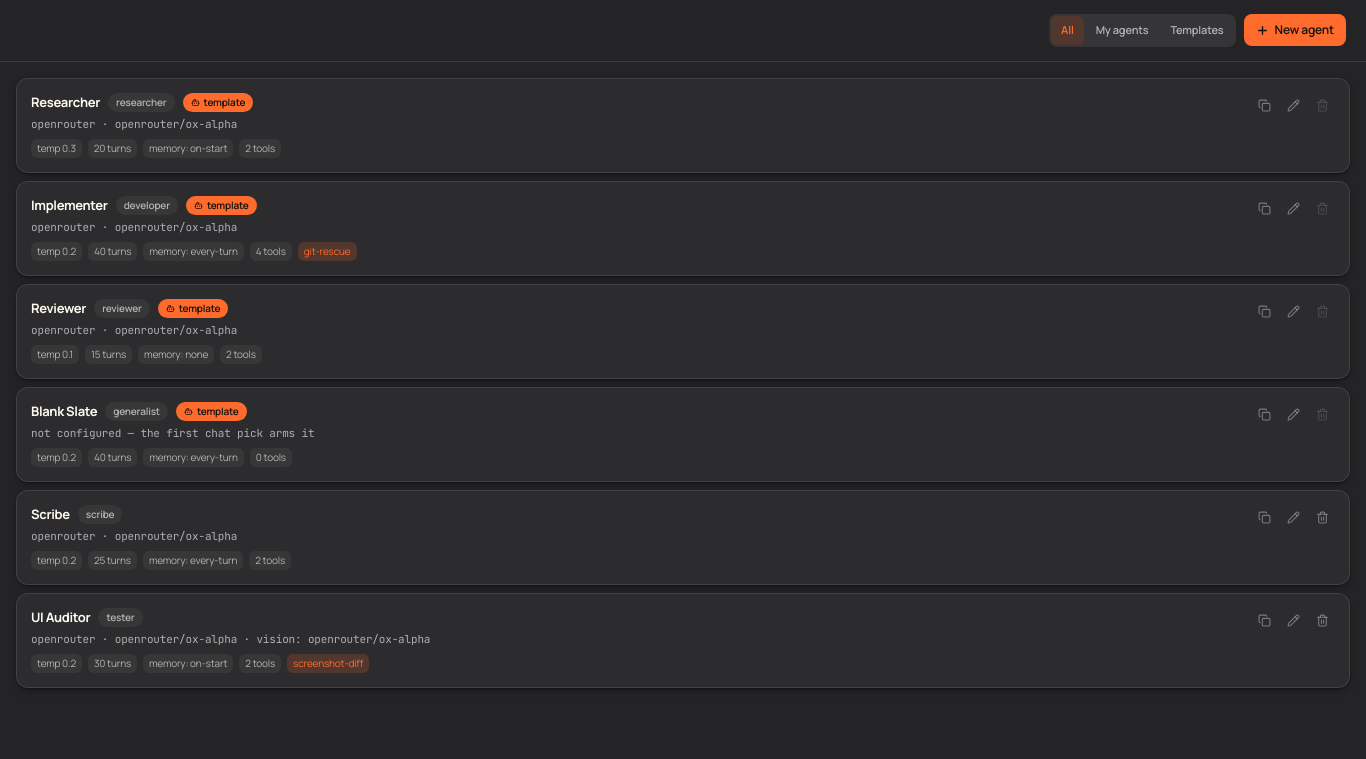
AgentsScreen (fixture backend) › create flow: dialog → fill required fields → agent appears in the list
Expected: the text "Implementer" is shown, [31, 196, 108, 215]
Click the button "New agent". click: (1295, 30)
box: [1244, 14, 1346, 46]
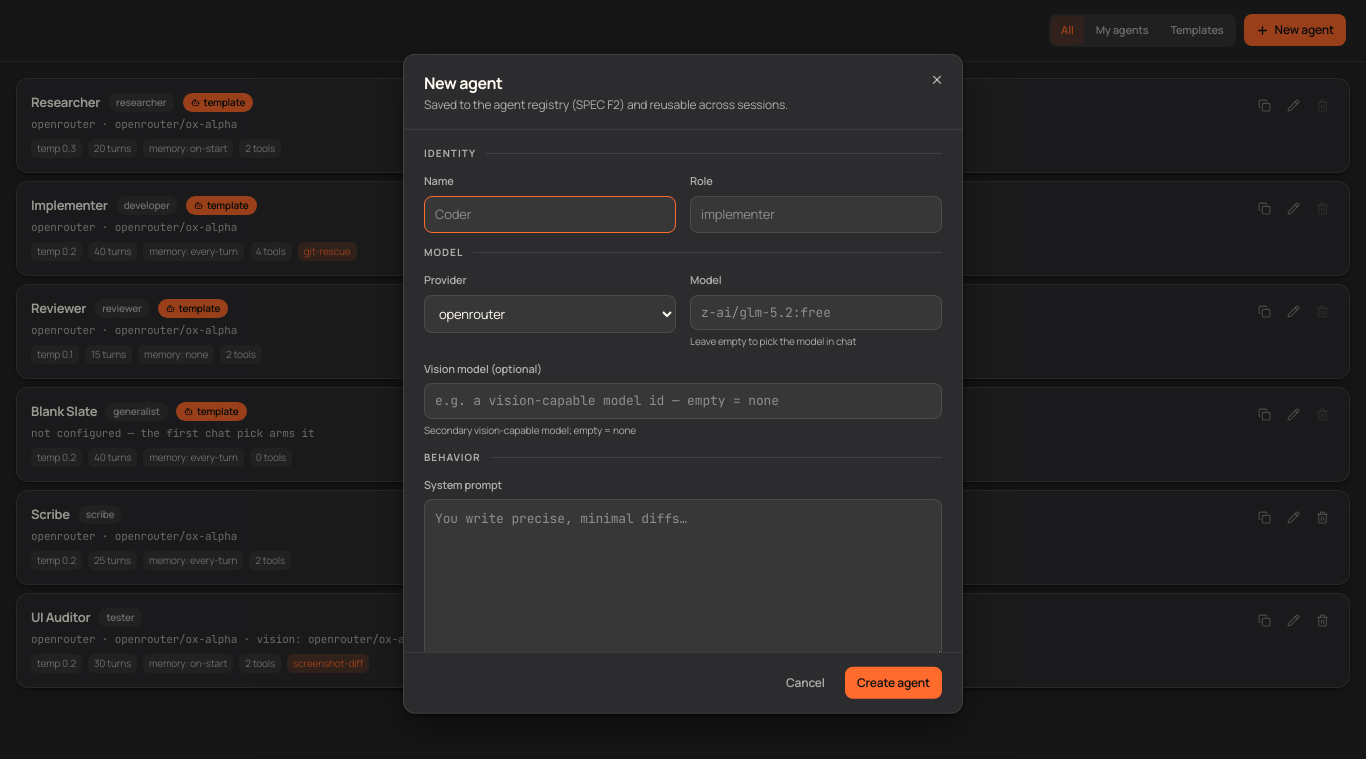
Type "Scraper" into the field labelled "Name". click: (550, 214)
box: [424, 195, 676, 233]
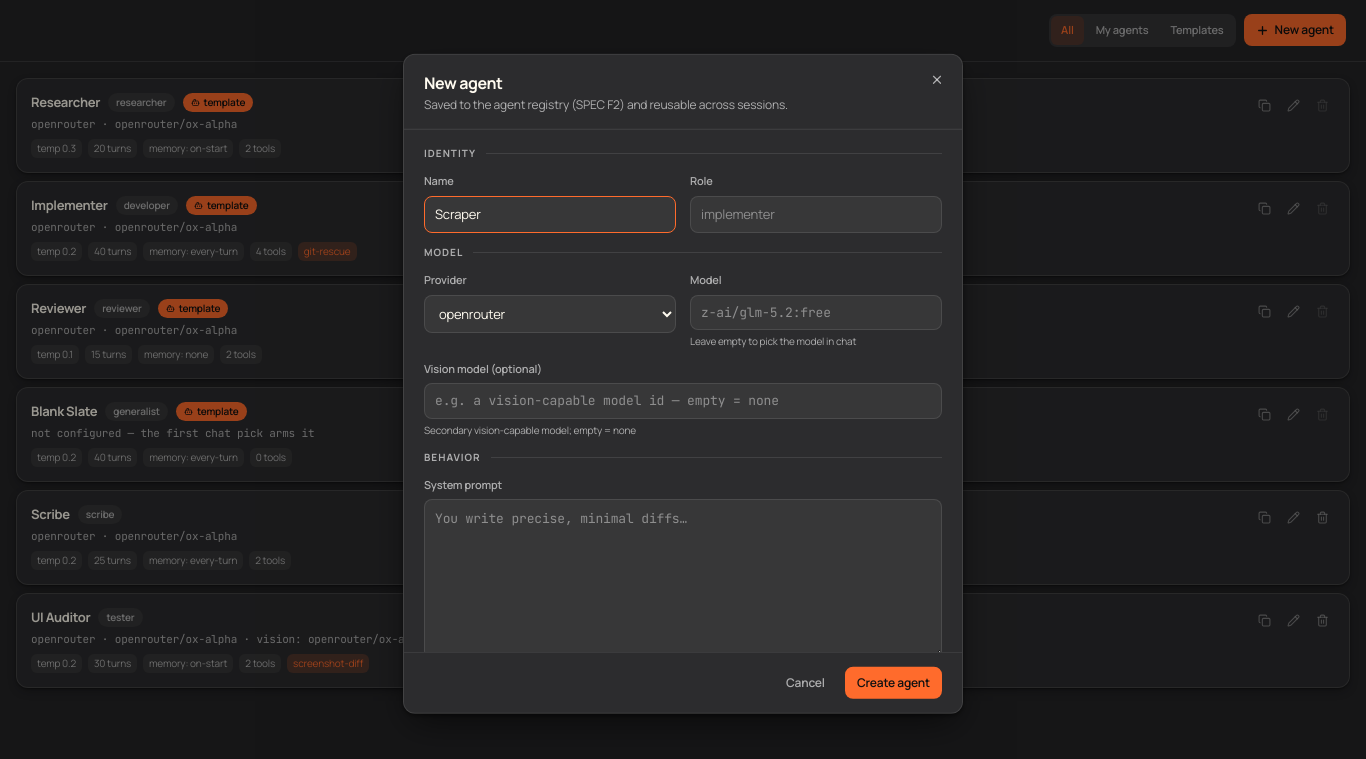
Type "researcher" into the field labelled "Role". click: (816, 214)
box: [690, 195, 942, 233]
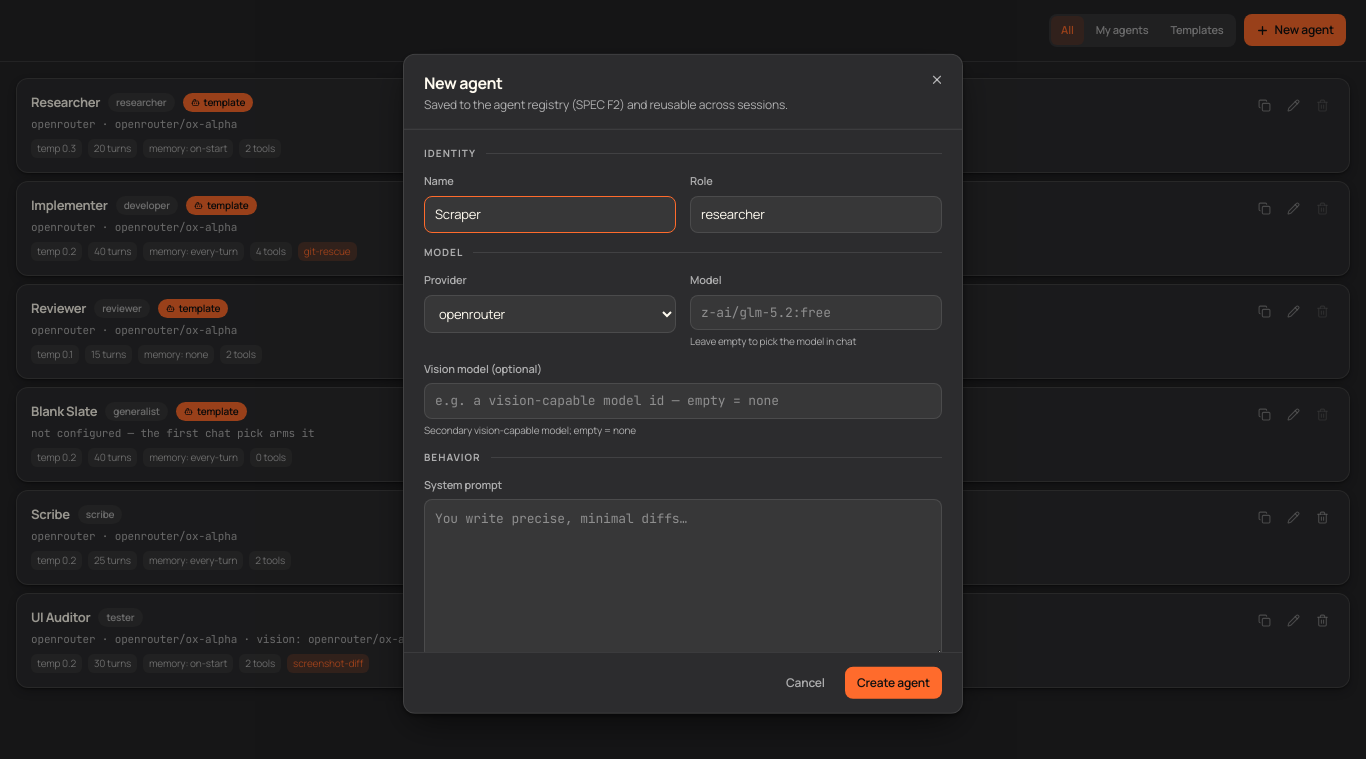
Type "openrouter/ox-alpha" into the field labelled "Model". click: (816, 312)
box: [690, 294, 942, 330]
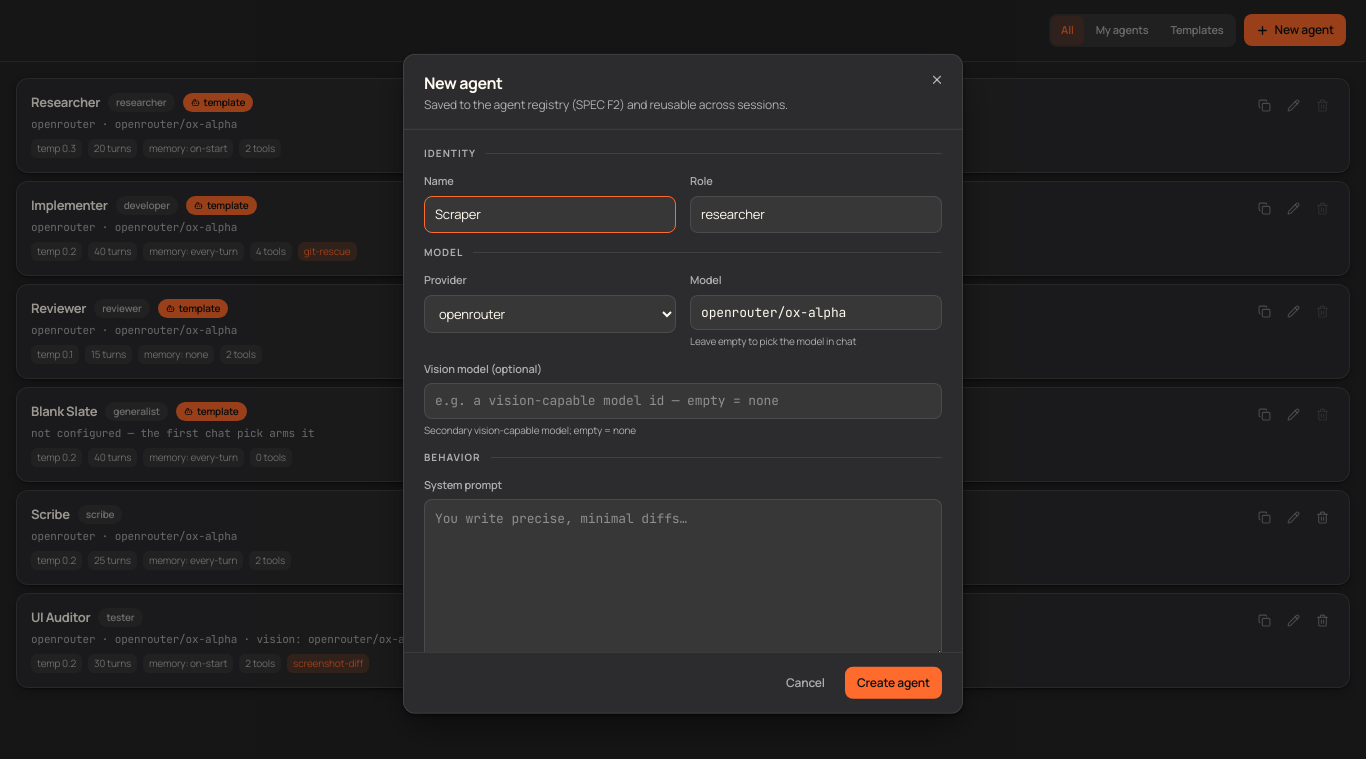
Click the button "Create agent". click: (893, 683)
box: [845, 667, 942, 699]
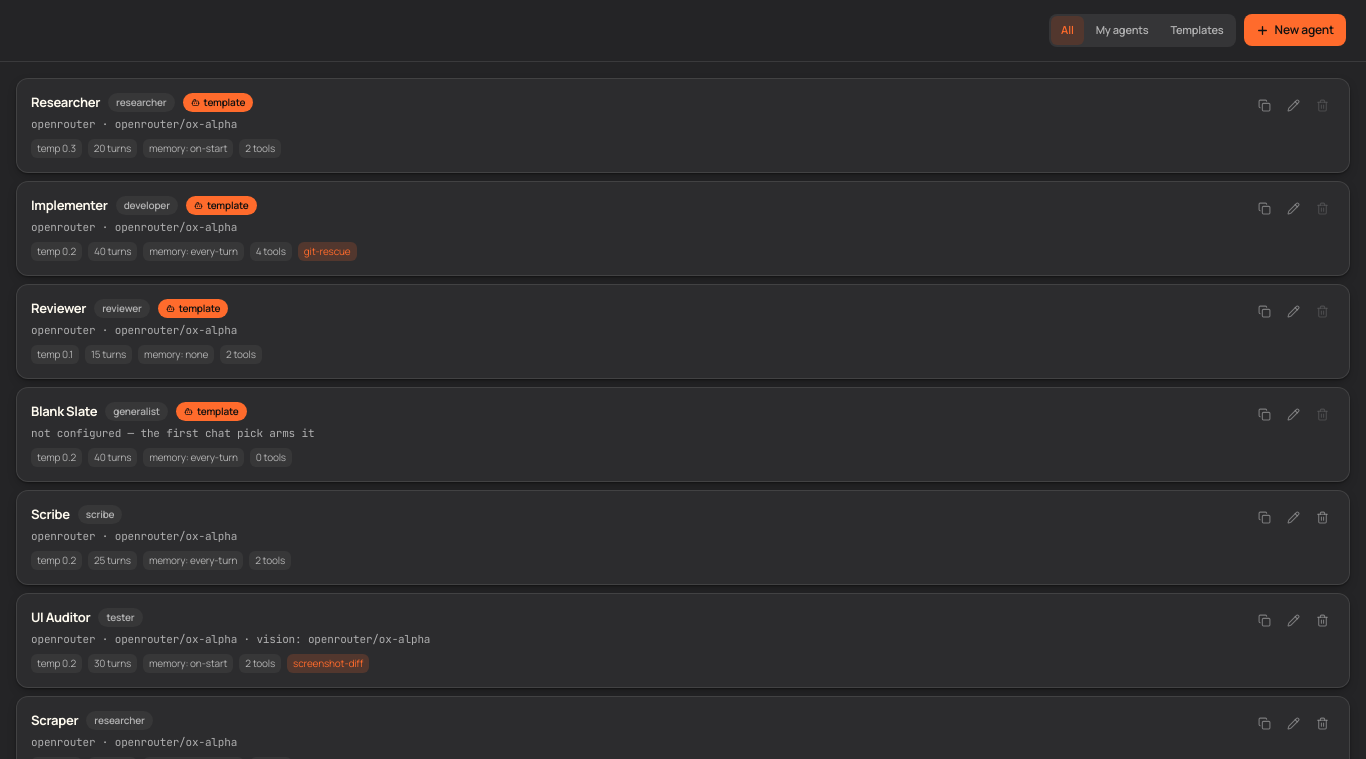
Expected: the text "Scraper" is shown, [31, 710, 78, 730]
Expected: the button "Create agent" is gone
